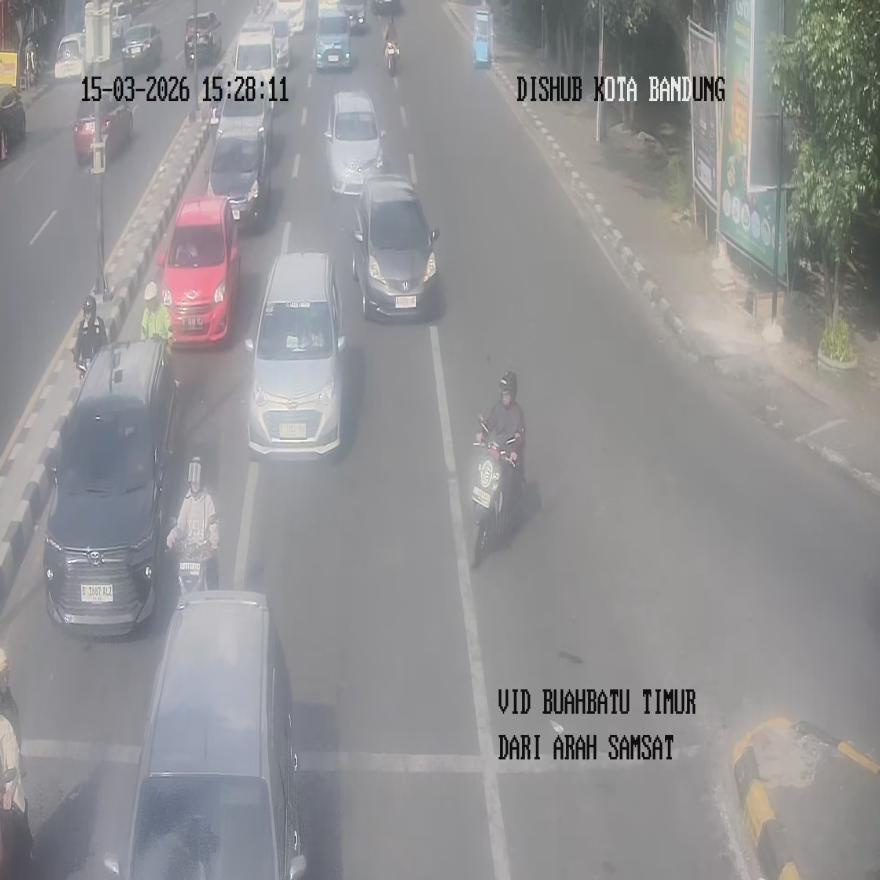Motor: (102, 590, 308, 877), (43, 339, 178, 636), (245, 252, 344, 457), (352, 174, 439, 318), (161, 195, 239, 346), (206, 77, 272, 230), (325, 90, 384, 196), (74, 78, 132, 163), (314, 3, 350, 70)
Truk: (470, 415, 521, 566), (166, 457, 219, 595), (385, 39, 399, 76)
